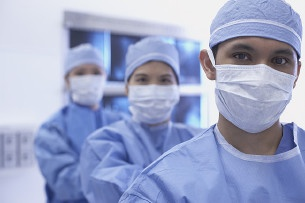Mask: (212, 42, 302, 132)
